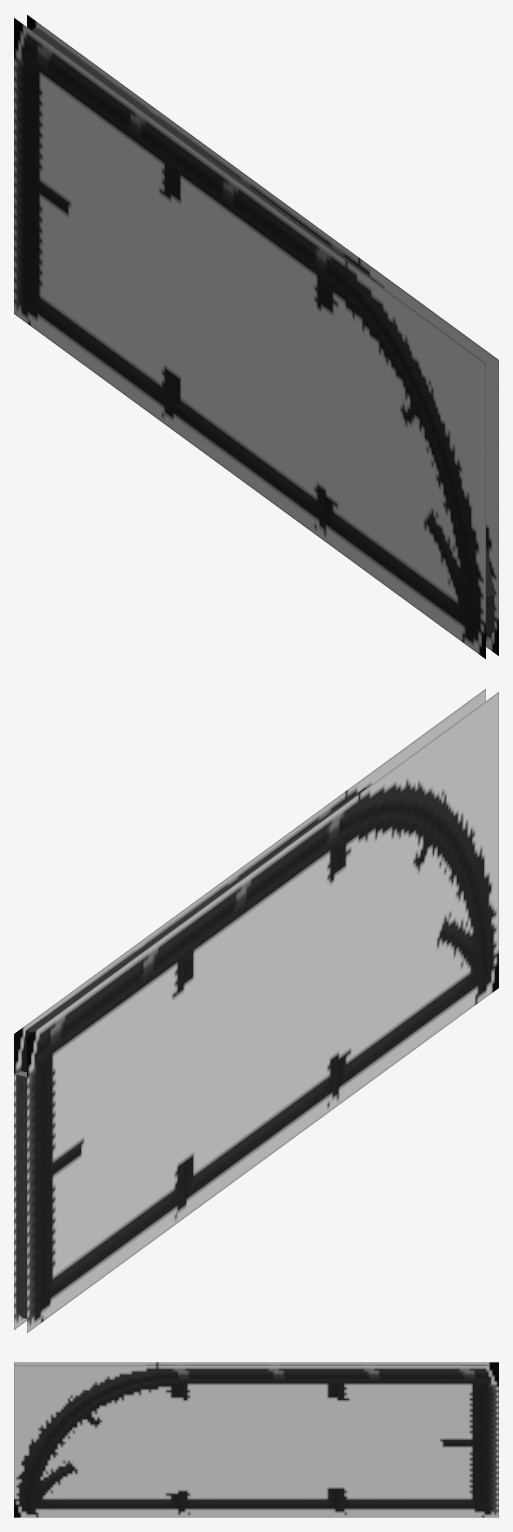
Rendered from pz_native_fixtures_windows_metal_92_frame.obj.
3 views of the same model, one above another, from view 1: azimuth 30°, elevation 25°; view 2: azimuth 150°, elevation 25°; view 3: azimuth 270°, elevation 25° (orthographic). The views are drawn at different scales.
Visible parts, largest first — view 1: pz_native_fixtures_windows_metal_92_frame; view 2: pz_native_fixtures_windows_metal_92_frame; view 3: pz_native_fixtures_windows_metal_92_frame.
Part boxes in pixels (<box>): pz_native_fixtures_windows_metal_92_frame: <box>14,15,498,658</box>; pz_native_fixtures_windows_metal_92_frame: <box>14,689,498,1332</box>; pz_native_fixtures_windows_metal_92_frame: <box>14,1362,498,1517</box>.
Size of the model in its own units: 0.04 by 0.875 by 2.53.
Materials: 1 (1 with a texture image).
